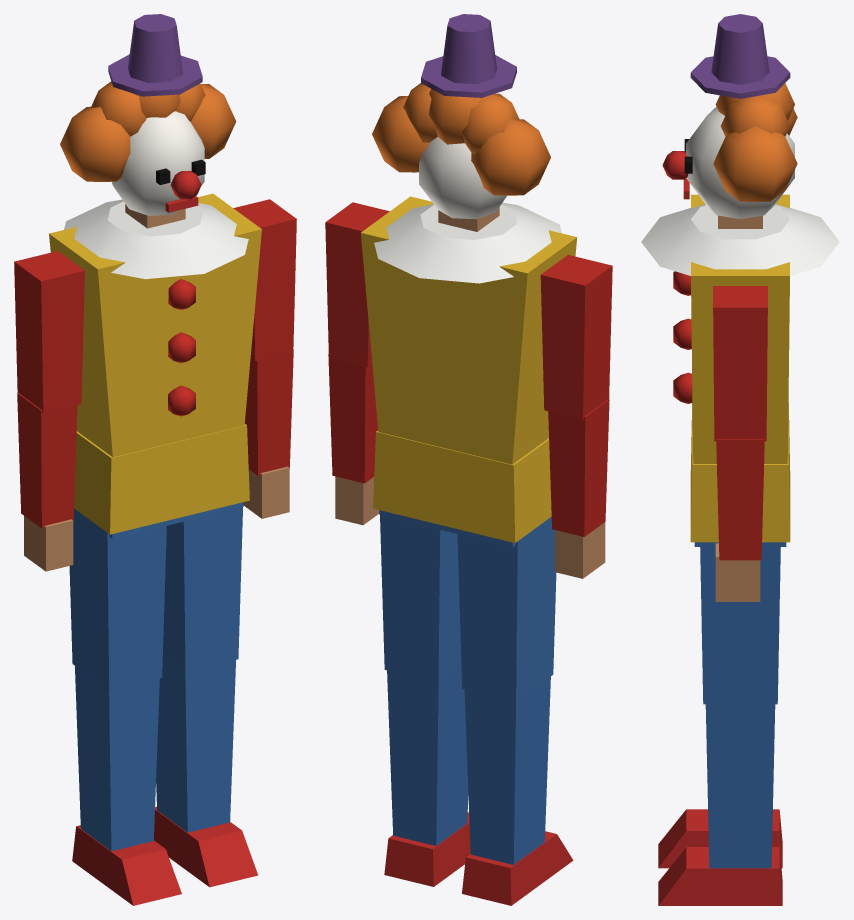
The model's file is npc_badut.glb.
3 renders of one model, left to right at view 1: azimuth 30°, elevation 25°; view 2: azimuth 150°, elevation 25°; view 3: azimuth 270°, elevation 25°, orthographic.
Visible parts, largest first — view 1: torso, leg_r, leg_l, head, arm_r, arm_l; view 2: torso, leg_r, leg_l, head, arm_r, arm_l; view 3: leg_l, torso, head, arm_l, leg_r.
Boxes of the visible parts, x1=… form: torso: x1=49, y1=193, x2=261, y2=538; leg_r: x1=69, y1=508, x2=181, y2=905; leg_l: x1=154, y1=507, x2=258, y2=887; head: x1=60, y1=14, x2=236, y2=215; arm_r: x1=14, y1=251, x2=84, y2=571; arm_l: x1=233, y1=199, x2=296, y2=518; torso: x1=360, y1=196, x2=577, y2=547; leg_r: x1=457, y1=517, x2=573, y2=905; leg_l: x1=380, y1=515, x2=470, y2=886; head: x1=372, y1=14, x2=550, y2=219; arm_r: x1=540, y1=255, x2=612, y2=578; arm_l: x1=325, y1=202, x2=389, y2=525; leg_l: x1=658, y1=542, x2=782, y2=905; torso: x1=641, y1=194, x2=839, y2=546; head: x1=662, y1=14, x2=797, y2=218; arm_l: x1=713, y1=286, x2=767, y2=601; leg_r: x1=658, y1=809, x2=782, y2=868.
Size of the model in its own units: 0.6035 by 1.89 by 0.4.
1 material, 1 textured.
